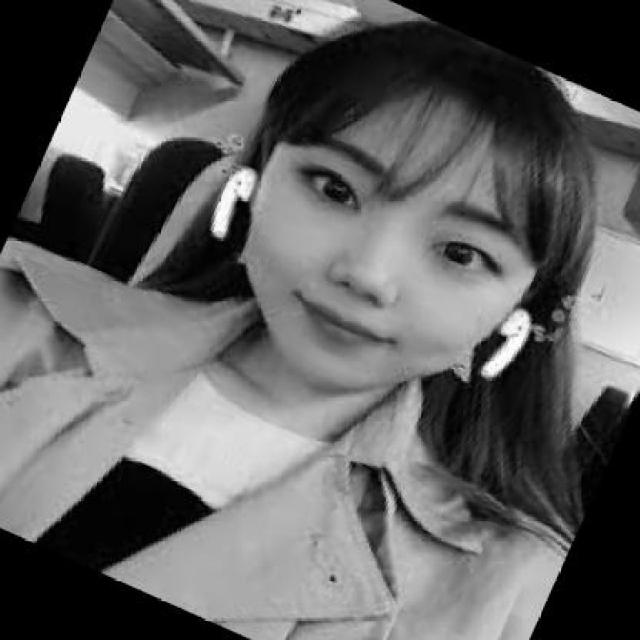earphone: (472, 298, 550, 392), (207, 166, 266, 256)
